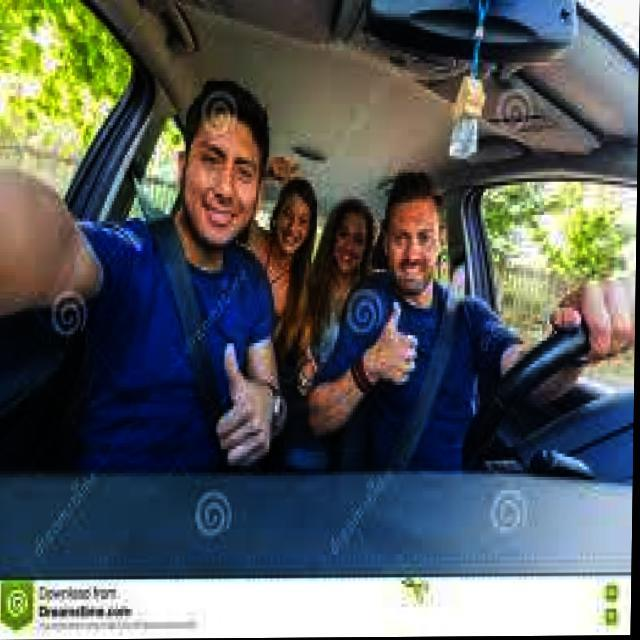seatbelt: (125, 227, 222, 472), (386, 282, 472, 468)
